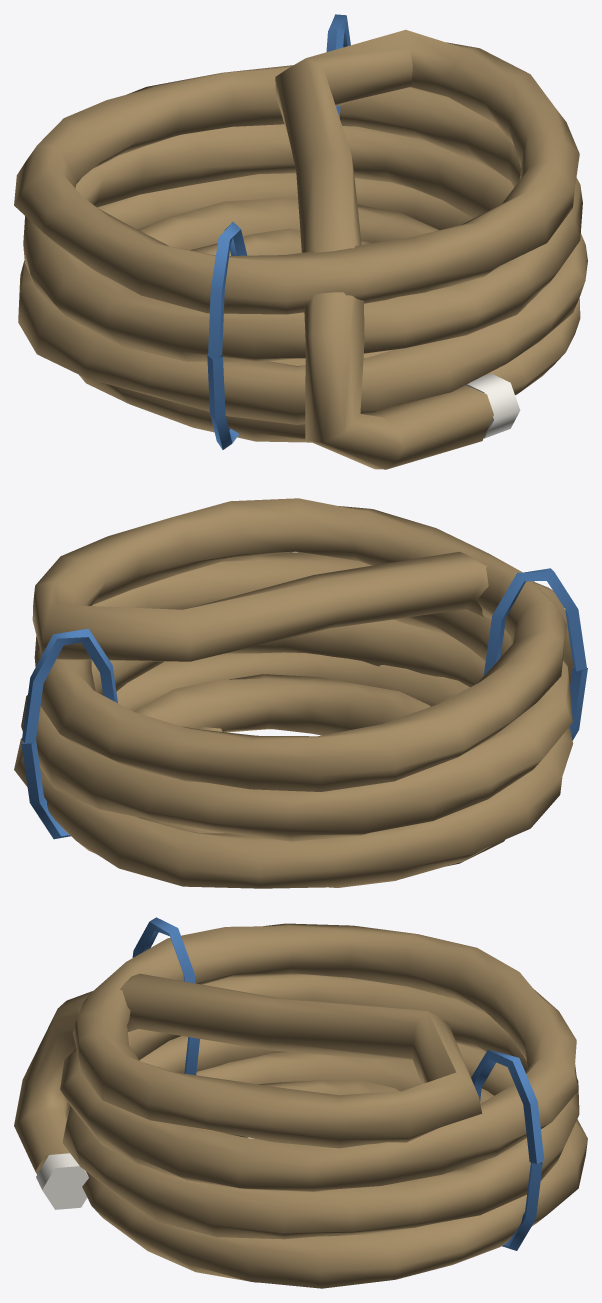
Rendered from rope_coil.glb.
3 views of the same model, one above another, from view 1: azimuth 30°, elevation 25°; view 2: azimuth 150°, elevation 25°; view 3: azimuth 270°, elevation 25° (orthographic). The views are drawn at different scales.
Visible parts, largest first — view 1: rope_coil_body; view 2: rope_coil_body; view 3: rope_coil_body.
Boxes of the visible parts, <box> form: rope_coil_body: <box>14,14,587,469</box>; rope_coil_body: <box>14,498,587,888</box>; rope_coil_body: <box>14,917,587,1288</box>.
Size of what is drawn, in the model's own units: 0.8485 by 0.3647 by 0.924.
